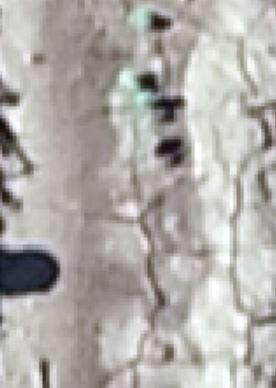cotton: (115, 71, 138, 91), (136, 10, 152, 29), (135, 93, 152, 108)
